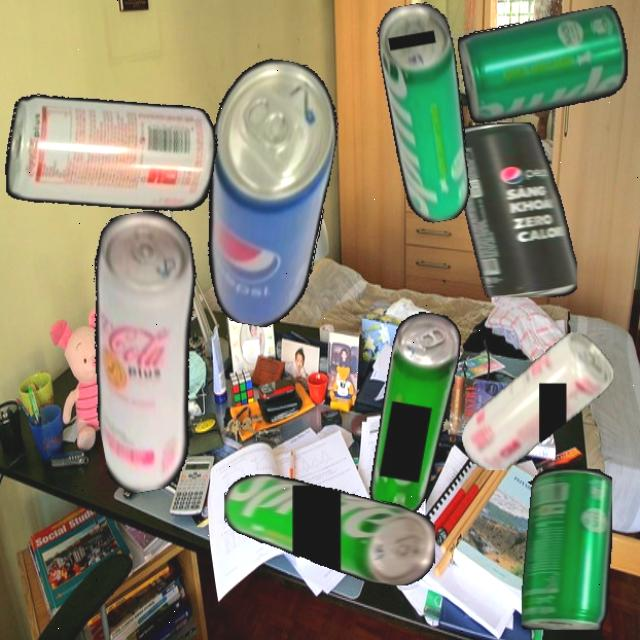debris: (65, 205, 231, 497), (182, 52, 348, 334), (0, 77, 223, 231), (372, 0, 482, 226), (224, 474, 436, 586), (451, 121, 577, 298), (456, 4, 635, 125), (364, 308, 465, 522), (461, 332, 613, 471), (521, 469, 612, 630)
